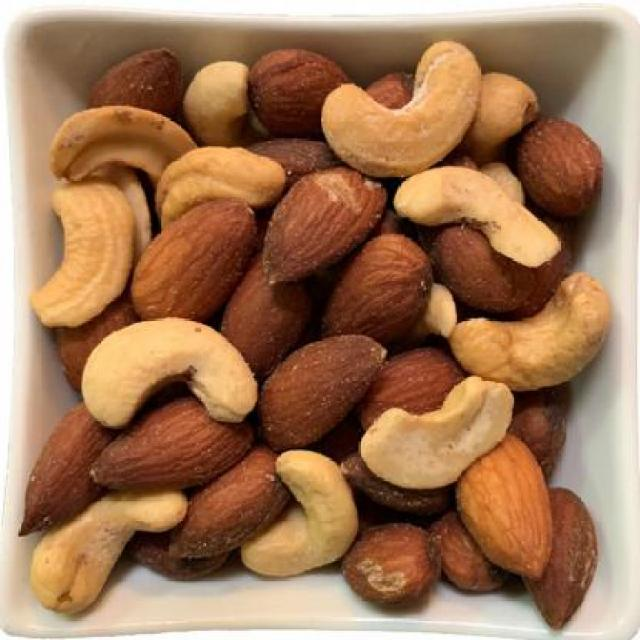Frutta secca: (37, 50, 594, 612)
